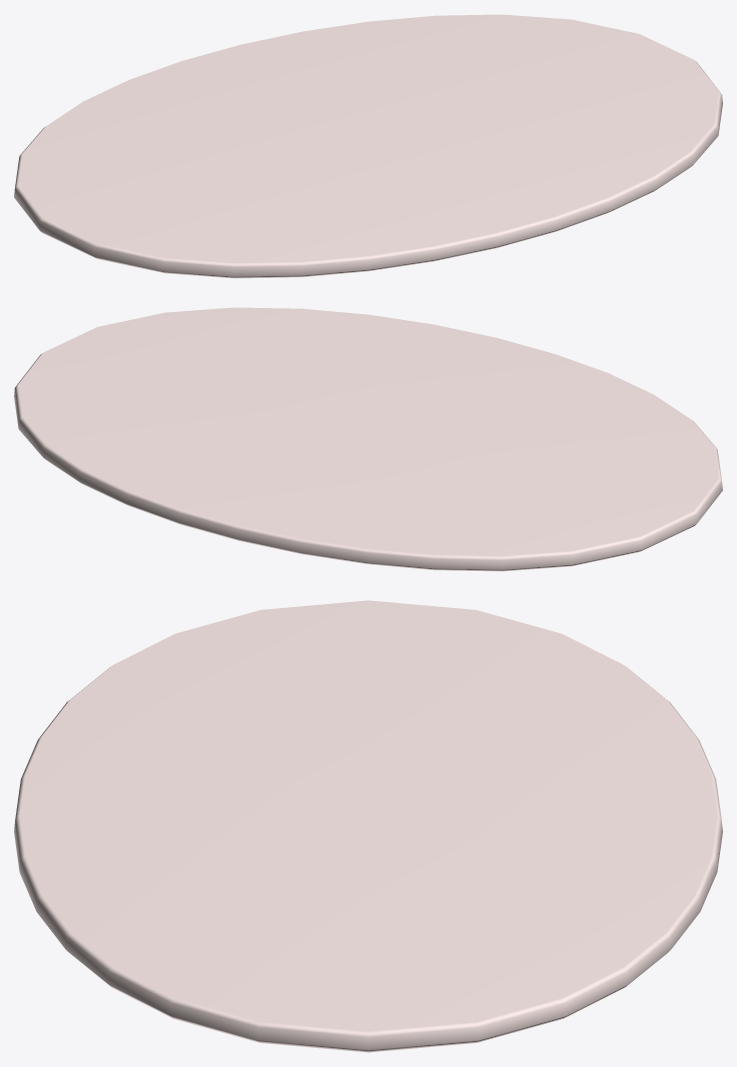
Rendered from Isl_6_Plate_1.fbx.
3 renders of one model, top to bottom at view 1: azimuth 30°, elevation 25°; view 2: azimuth 150°, elevation 25°; view 3: azimuth 270°, elevation 25°, orthographic. The views are drawn at different scales.
Parts seen in each view (by area): view 1: Isl_6_Plate_1; view 2: Isl_6_Plate_1; view 3: Isl_6_Plate_1.
Boxes of the visible parts, left/top/right/bottom form: Isl_6_Plate_1: left=14, top=14, right=722, bottom=278; Isl_6_Plate_1: left=14, top=307, right=722, bottom=571; Isl_6_Plate_1: left=14, top=600, right=722, bottom=1052.
Size of the model in its own units: 64.86 by 4.65 by 44.57.
